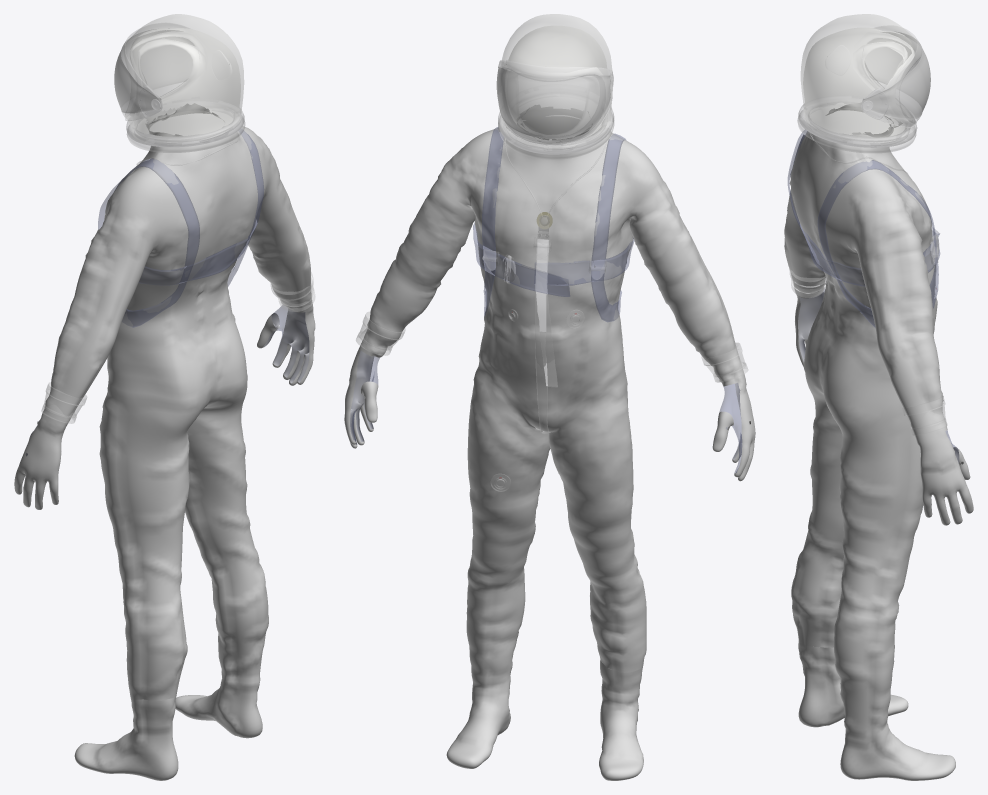
Rendered from Mercury Spacesuit.glb.
3 renders of one model, left to right at view 1: azimuth 30°, elevation 25°; view 2: azimuth 150°, elevation 25°; view 3: azimuth 270°, elevation 25°, orthographic.
Parts seen in each view (by area): view 1: Mercury Spacesuit; view 2: Mercury Spacesuit; view 3: Mercury Spacesuit.
Part boxes in pixels (x1,y1,x2,y2): Mercury Spacesuit: [14, 14, 315, 780]; Mercury Spacesuit: [344, 14, 755, 780]; Mercury Spacesuit: [784, 14, 973, 780].
Size of the model in its own units: 0.9949 by 2 by 0.4719.
